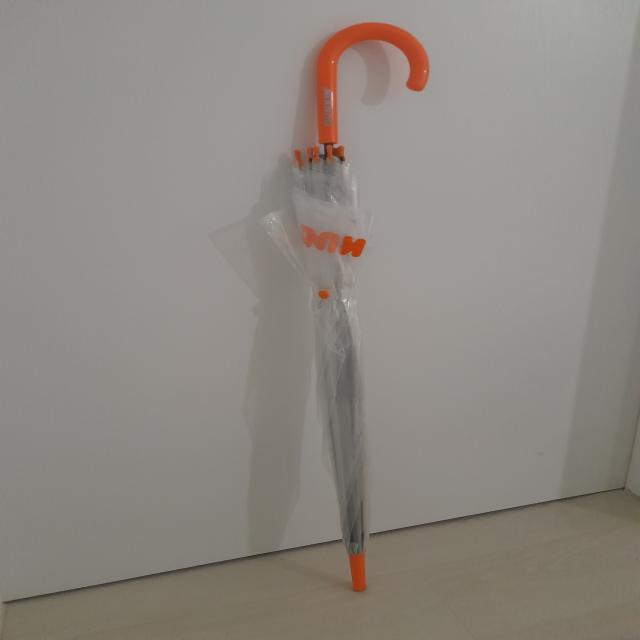umbrella: (263, 24, 433, 594)
